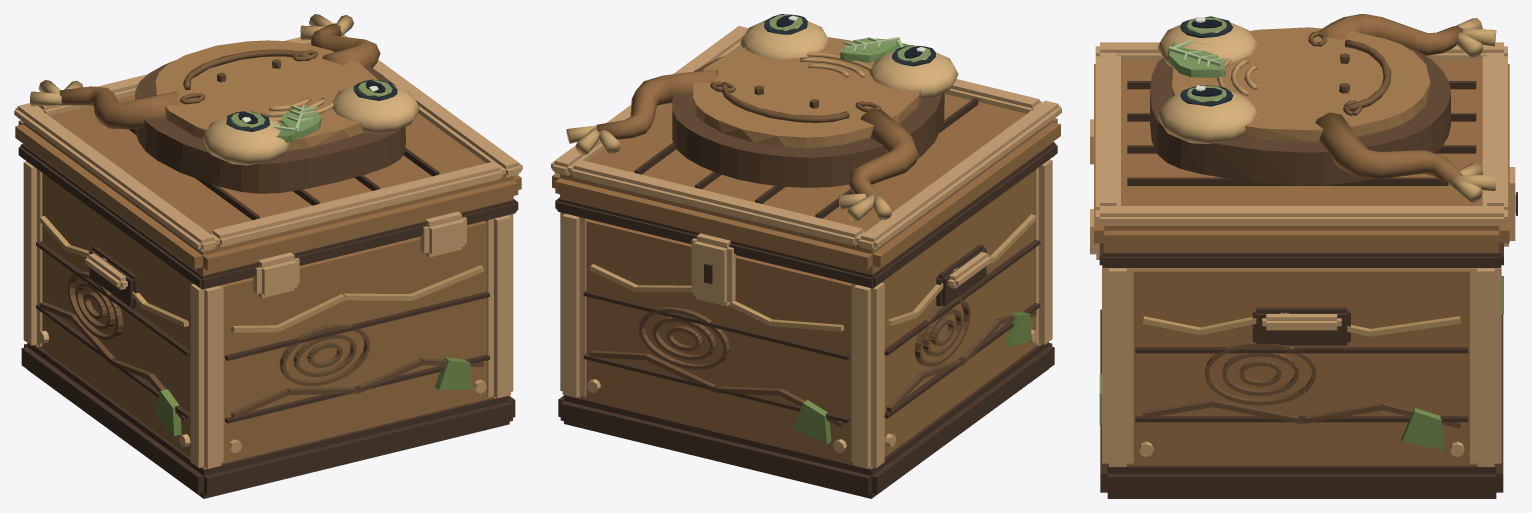
Rendered from crate_sapo_madeira.fbx.
3 renders of one model, left to right at view 1: azimuth 30°, elevation 25°; view 2: azimuth 150°, elevation 25°; view 3: azimuth 270°, elevation 25°, orthographic. The views are drawn at different scales.
Parts seen in each view (by area): view 1: crate_sapo_madeira_caixa; view 2: crate_sapo_madeira_caixa; view 3: crate_sapo_madeira_caixa.
Boxes of the visible parts, left/top/right/bottom form: crate_sapo_madeira_caixa: left=14, top=14, right=522, bottom=498; crate_sapo_madeira_caixa: left=551, top=14, right=1061, bottom=498; crate_sapo_madeira_caixa: left=1090, top=14, right=1517, bottom=498.
Bounding box in the file's own units: 2.68 × 2.51 × 2.7.
1 material, 1 textured.
